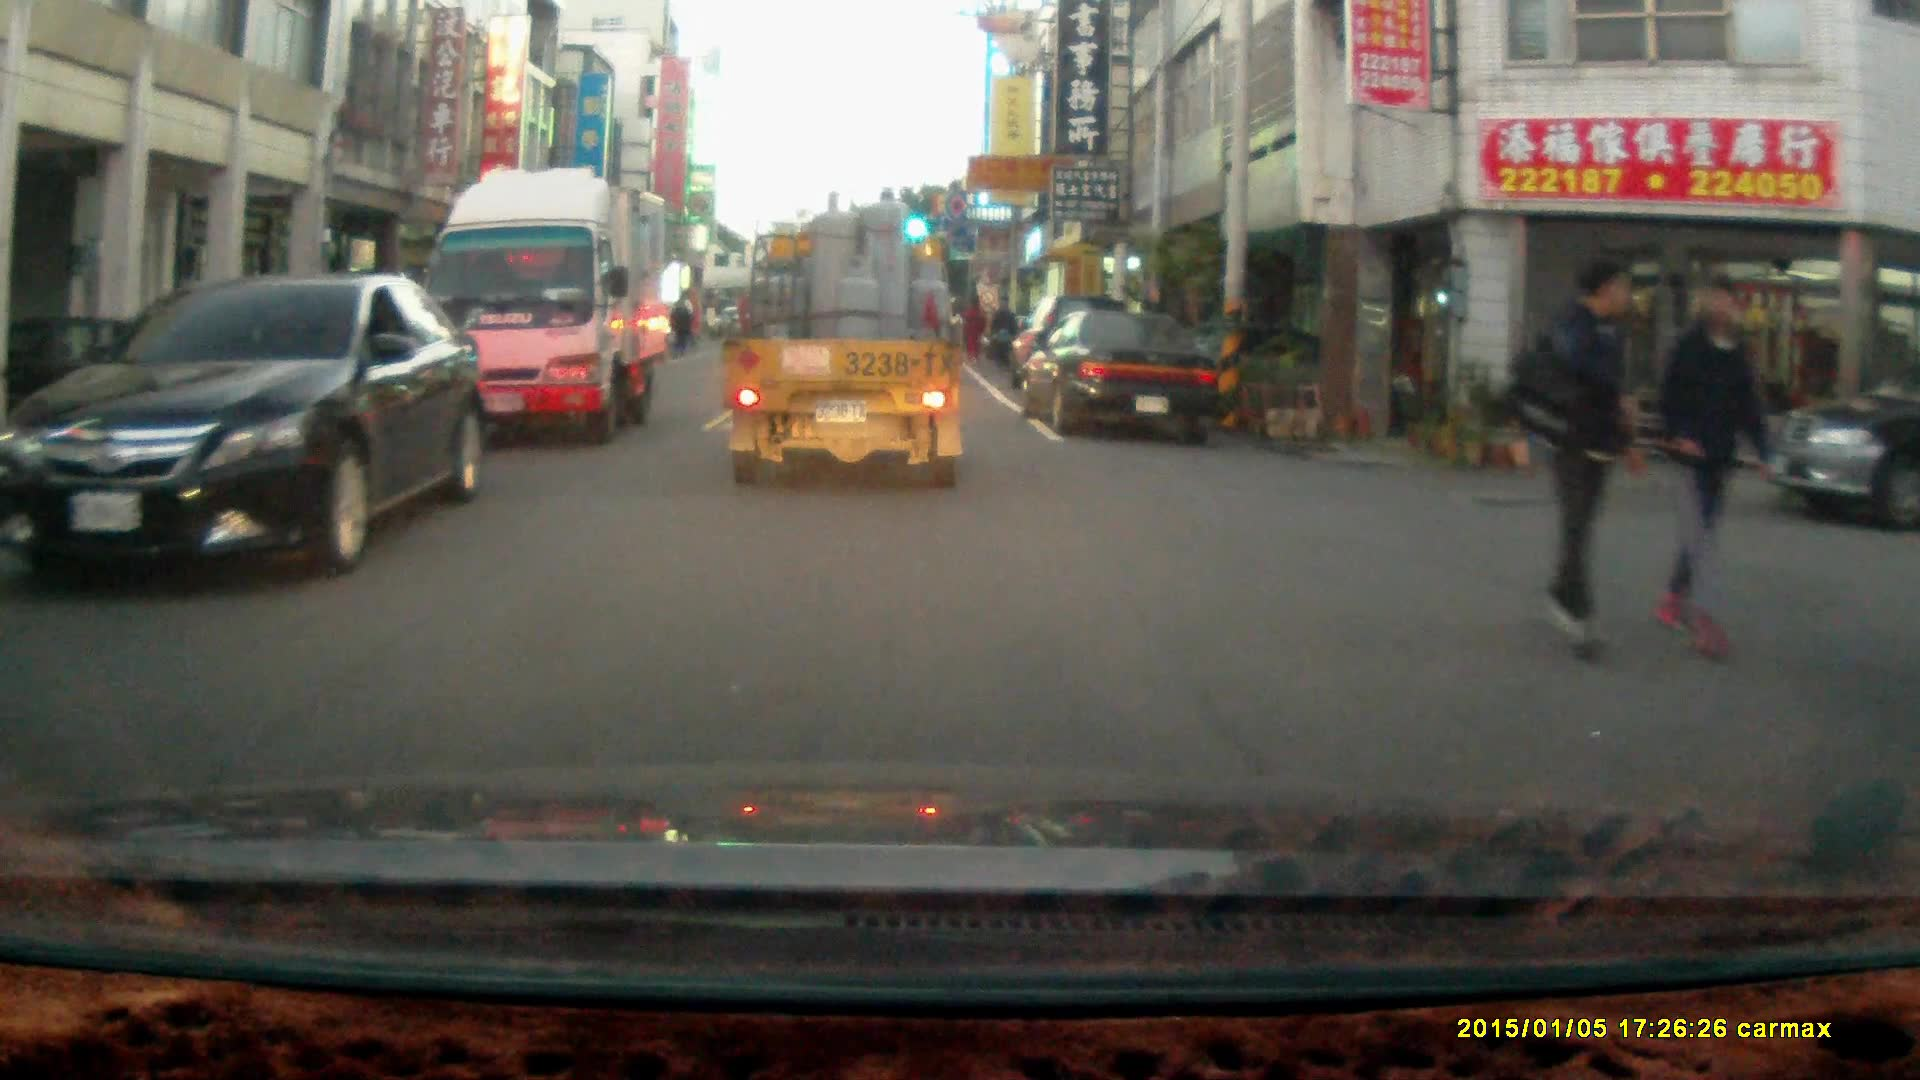pedestrian: (1645, 267, 1771, 660), (1530, 255, 1637, 657), (987, 289, 1017, 370), (961, 290, 989, 363), (665, 294, 693, 354)
vehicle: (4, 266, 483, 583), (728, 182, 966, 486), (424, 166, 670, 442), (1024, 311, 1225, 441)
